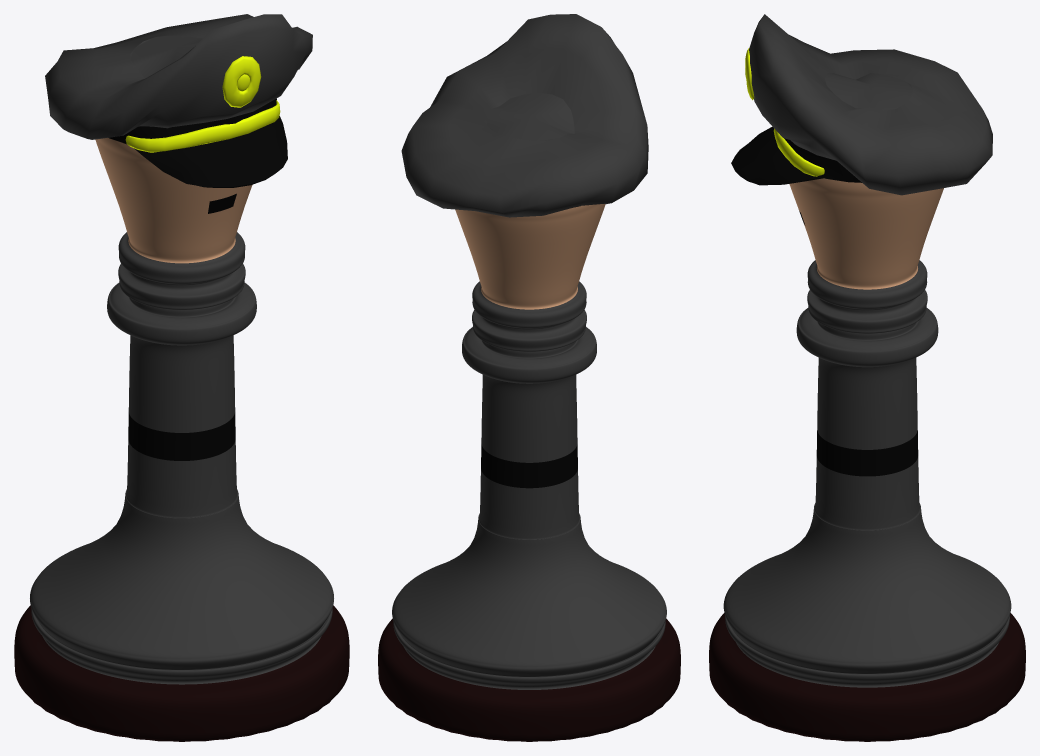
File: Rei Preto.FBX
The picture shows the model from 3 angles, left to right: view 1: azimuth 30°, elevation 25°; view 2: azimuth 150°, elevation 25°; view 3: azimuth 270°, elevation 25°; orthographic projection. The views are drawn at different scales.
Parts seen in each view (by area): view 1: polySurface60, sss; view 2: polySurface60, sss; view 3: polySurface60, sss.
Part boxes in pixels (<box>): polySurface60: <box>14,138,349,741</box>; sss: <box>45,14,312,187</box>; polySurface60: <box>378,204,680,741</box>; sss: <box>401,14,648,217</box>; polySurface60: <box>709,178,1025,741</box>; sss: <box>731,14,992,195</box>.
Size of the model in its own units: 44.5 by 103 by 44.5.
